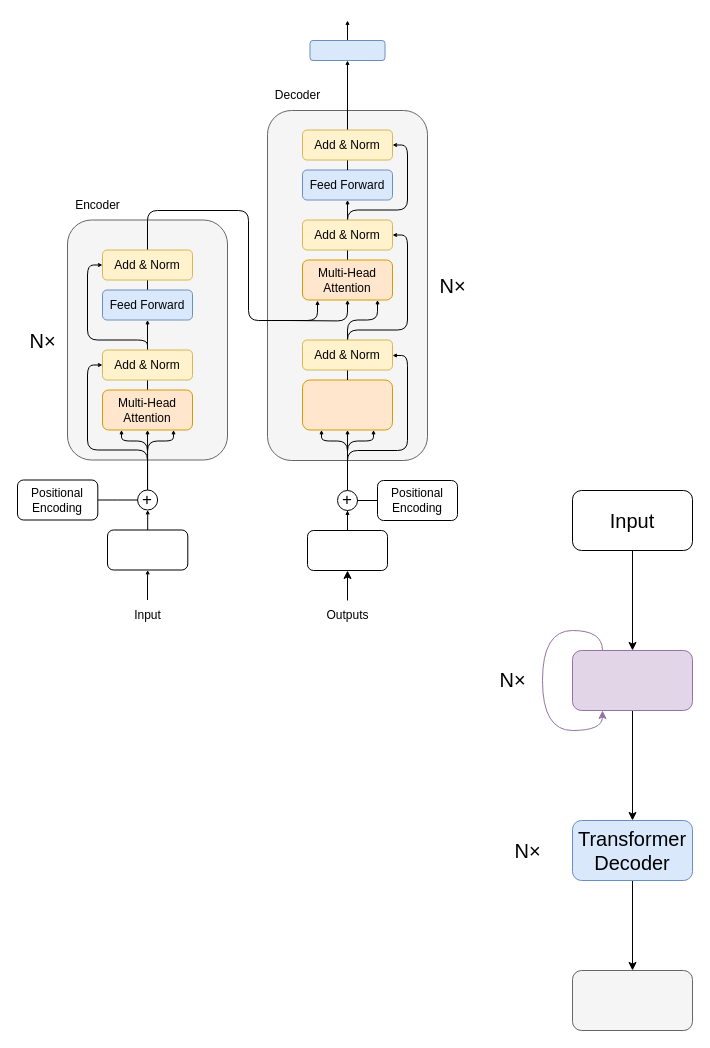
The diagram is 710 pixels wide and 1048 high, and some of its shapes have lost their labels. Each missing label, with the centre of its shape:
"Dense" belongs at [347,50].
"Input Embeddings" belongs at [147,549].
"Masked Multi-Head Attention" belongs at [347,404].
"Output" belongs at [632,1000].
"Output Embeddings" belongs at [347,550].
"Transformer Encoder" belongs at [632,680].
